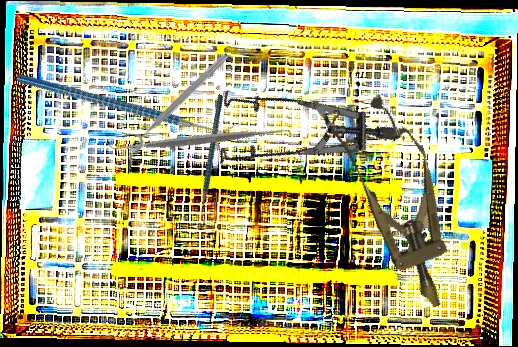Chopper: (15, 5, 242, 199), (161, 93, 266, 228)
Fixation Ring: (118, 44, 233, 156)
Spatula Surgical: (104, 44, 295, 235)
Speculum: (190, 35, 404, 240), (322, 86, 476, 321)
